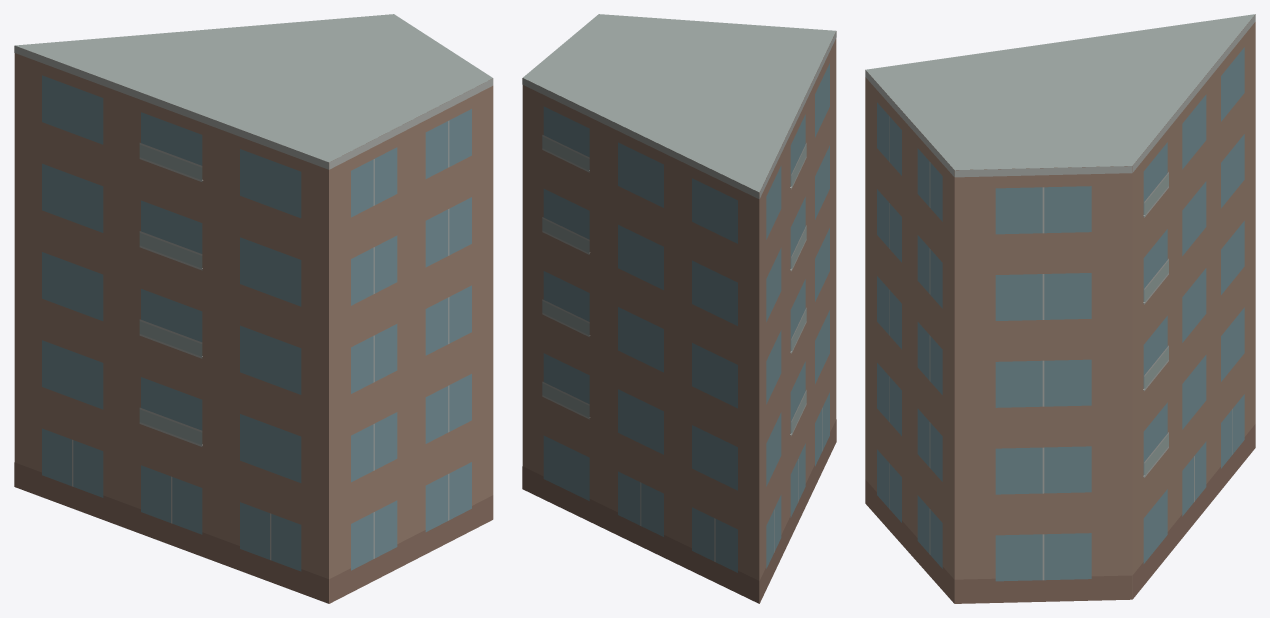
The model's file is survey-upis-32769670.glb.
The picture shows the model from 3 angles, left to right: view 1: azimuth 30°, elevation 25°; view 2: azimuth 150°, elevation 25°; view 3: azimuth 270°, elevation 25°; orthographic projection. The views are drawn at different scales.
Parts seen in each view (by area): view 1: survey-upis-32769670.tmp; view 2: survey-upis-32769670.tmp; view 3: survey-upis-32769670.tmp.
Part boxes in pixels (x1,y1,x2,y2): survey-upis-32769670.tmp: (14, 14, 493, 603); survey-upis-32769670.tmp: (522, 14, 836, 603); survey-upis-32769670.tmp: (865, 14, 1255, 603).
Bounding box in the file's own units: 11.28 × 14.6 × 11.91.
